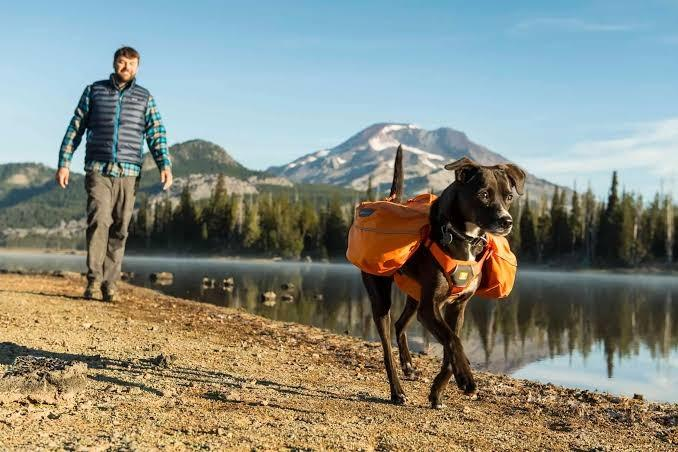adult_dog: (359, 144, 525, 409)
non-dog: (55, 44, 176, 305)
